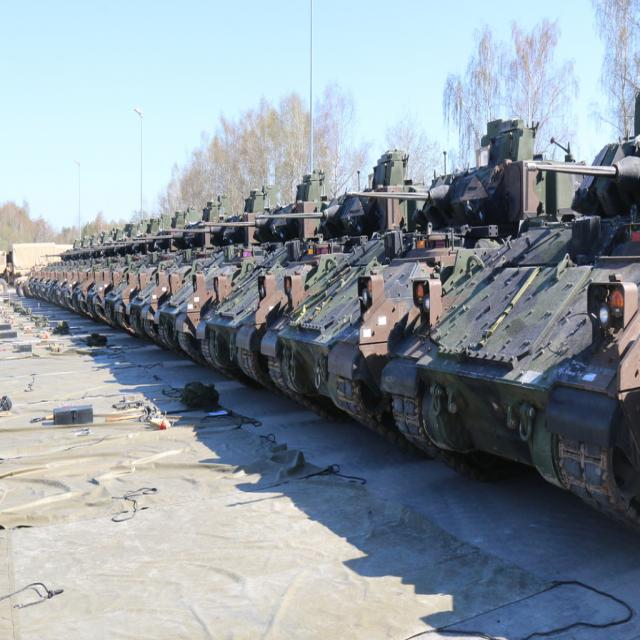tank: (28, 89, 640, 526)
